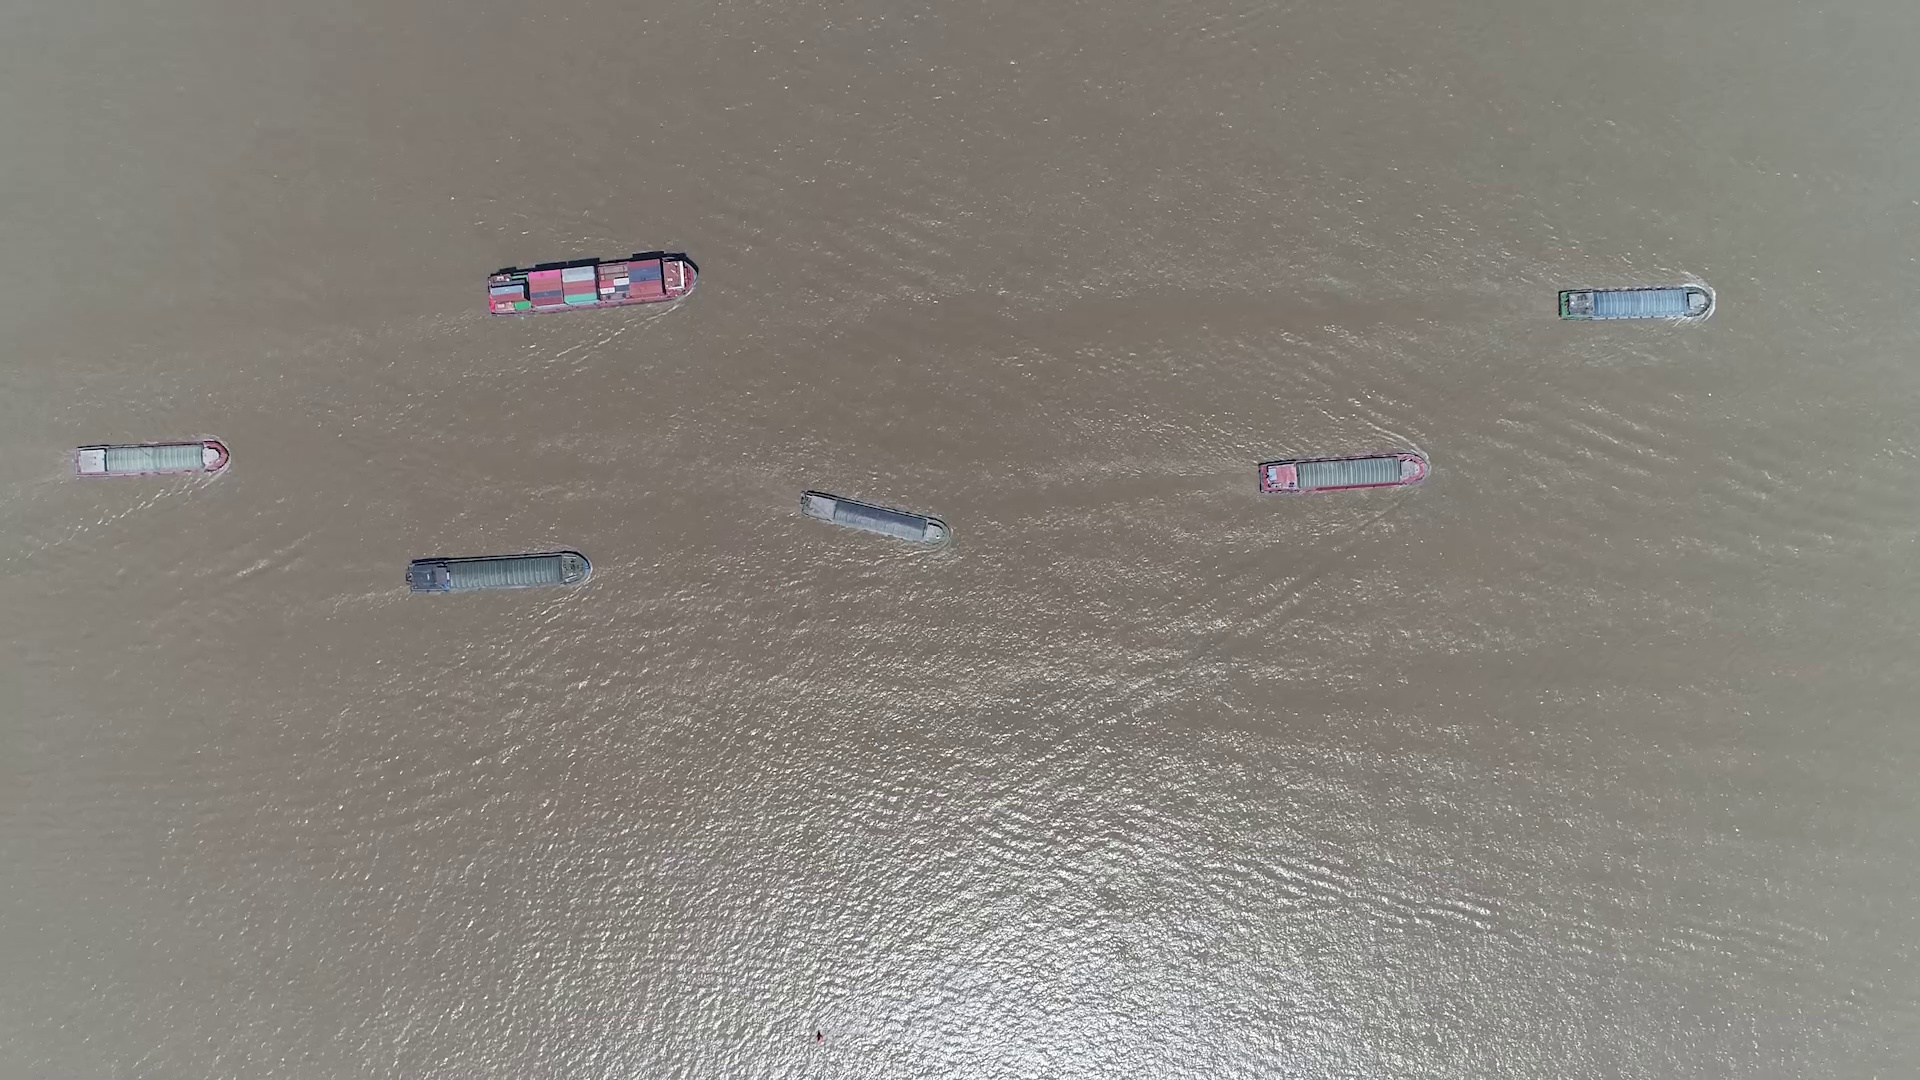ship: (485, 256, 698, 314), (800, 492, 951, 546), (405, 551, 589, 593), (1258, 454, 1429, 495), (73, 440, 228, 476), (1559, 287, 1712, 320)
